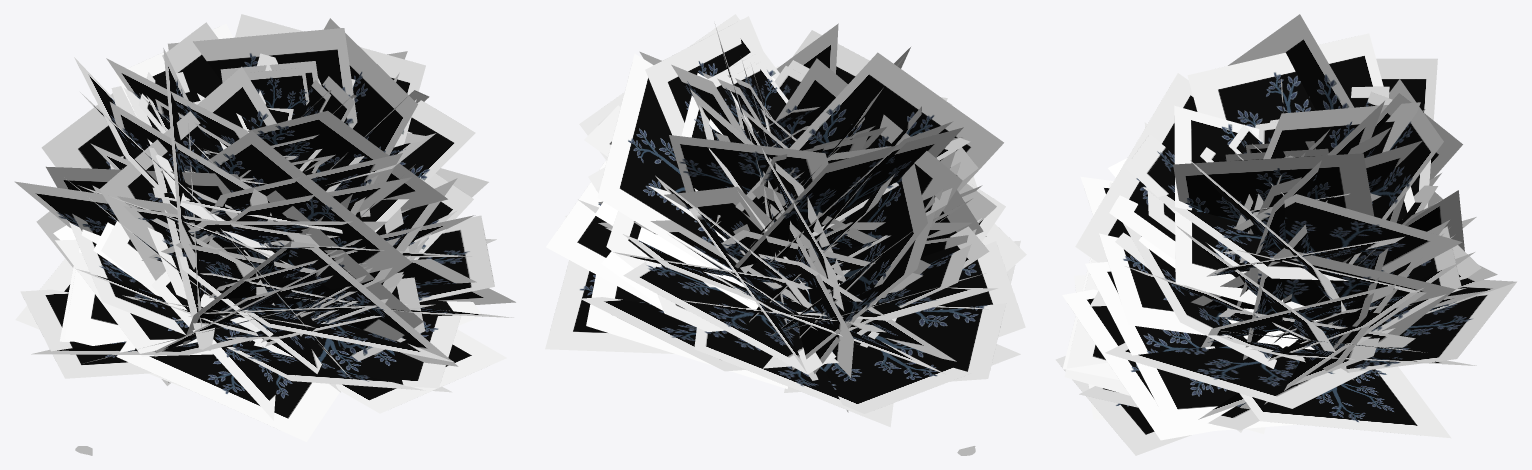
The model's file is beech tree.fbx.
3 views of the same model, side by side, from view 1: azimuth 30°, elevation 25°; view 2: azimuth 150°, elevation 25°; view 3: azimuth 270°, elevation 25° (orthographic).
Visible parts, largest first — view 1: pPlane151, pPlane217, pPlane177, pPlane214, pPlane225, pPlane163, pPlane196, pPlane213, pPlane120, pPlane166, pPlane156, pPlane173 (+59 smaller); view 2: pPlane118, pPlane187, pPlane162, pPlane195, pPlane156, pPlane153, pPlane199, pPlane185, pPlane217, pPlane213, pPlane165, pPlane155 (+54 smaller); view 3: pPlane198, pPlane213, pPlane165, pPlane172, pPlane118, pPlane166, pPlane196, pPlane226, pPlane205, pPlane214, pPlane177, pPlane99 (+40 smaller).
Boxes of the visible parts, x1=… form: pPlane151: x1=116, y1=339, x2=339, y2=441; pPlane217: x1=99, y1=66, x2=276, y2=280; pPlane177: x1=208, y1=131, x2=411, y2=283; pPlane214: x1=168, y1=28, x2=370, y2=217; pPlane225: x1=253, y1=329, x2=506, y2=413; pPlane163: x1=41, y1=22, x2=222, y2=169; pPlane196: x1=247, y1=110, x2=447, y2=210; pPlane213: x1=324, y1=18, x2=417, y2=215; pPlane120: x1=358, y1=100, x2=475, y2=232; pPlane166: x1=404, y1=215, x2=494, y2=304; pPlane156: x1=20, y1=289, x2=152, y2=378; pPlane173: x1=265, y1=240, x2=458, y2=366; pPlane118: x1=597, y1=54, x2=745, y2=287; pPlane187: x1=735, y1=52, x2=1003, y2=219; pPlane162: x1=623, y1=262, x2=836, y2=374; pPlane195: x1=731, y1=127, x2=963, y2=269; pPlane156: x1=822, y1=343, x2=1020, y2=413; pPlane153: x1=784, y1=240, x2=1020, y2=392; pPlane199: x1=669, y1=135, x2=845, y2=222; pPlane185: x1=813, y1=163, x2=927, y2=373; pPlane217: x1=775, y1=58, x2=962, y2=297; pPlane213: x1=645, y1=16, x2=762, y2=241; pPlane165: x1=545, y1=260, x2=674, y2=353; pPlane155: x1=694, y1=327, x2=893, y2=427; pPlane198: x1=1187, y1=33, x2=1414, y2=220; pPlane213: x1=1173, y1=153, x2=1374, y2=221; pPlane165: x1=1205, y1=344, x2=1451, y2=438; pPlane172: x1=1085, y1=262, x2=1296, y2=434; pPlane118: x1=1233, y1=194, x2=1462, y2=273; pPlane166: x1=1105, y1=343, x2=1369, y2=408; pPlane196: x1=1174, y1=105, x2=1320, y2=321; pPlane226: x1=1346, y1=282, x2=1516, y2=372; pPlane205: x1=1080, y1=176, x2=1314, y2=349; pPlane214: x1=1227, y1=102, x2=1420, y2=249; pPlane177: x1=1075, y1=73, x2=1197, y2=262; pPlane99: x1=1257, y1=248, x2=1455, y2=335.
Size of the model in its own units: 19.75 by 16.43 by 18.18.
